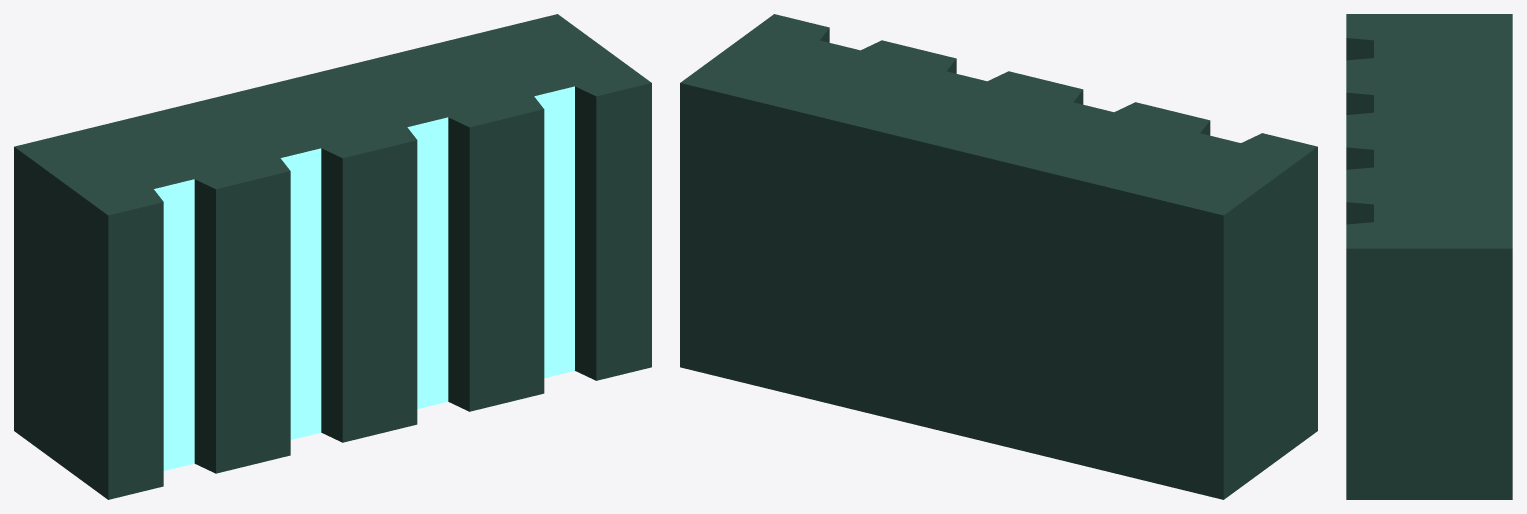
The model's file is W2_Wall_Ridge1_Top.fbx.
3 renders of one model, left to right at view 1: azimuth 30°, elevation 25°; view 2: azimuth 150°, elevation 25°; view 3: azimuth 270°, elevation 25°, orthographic. The views are drawn at different scales.
Visible parts, largest first — view 1: W2_Wall_Ridge1_Top.001; view 2: W2_Wall_Ridge1_Top.001; view 3: W2_Wall_Ridge1_Top.001.
Part boxes in pixels (box(x1,y1,x2,y2)): W2_Wall_Ridge1_Top.001: box(14, 14, 651, 499); W2_Wall_Ridge1_Top.001: box(680, 14, 1317, 499); W2_Wall_Ridge1_Top.001: box(1346, 14, 1512, 499).
Size of the model in its own units: 1 by 0.5 by 0.3.
